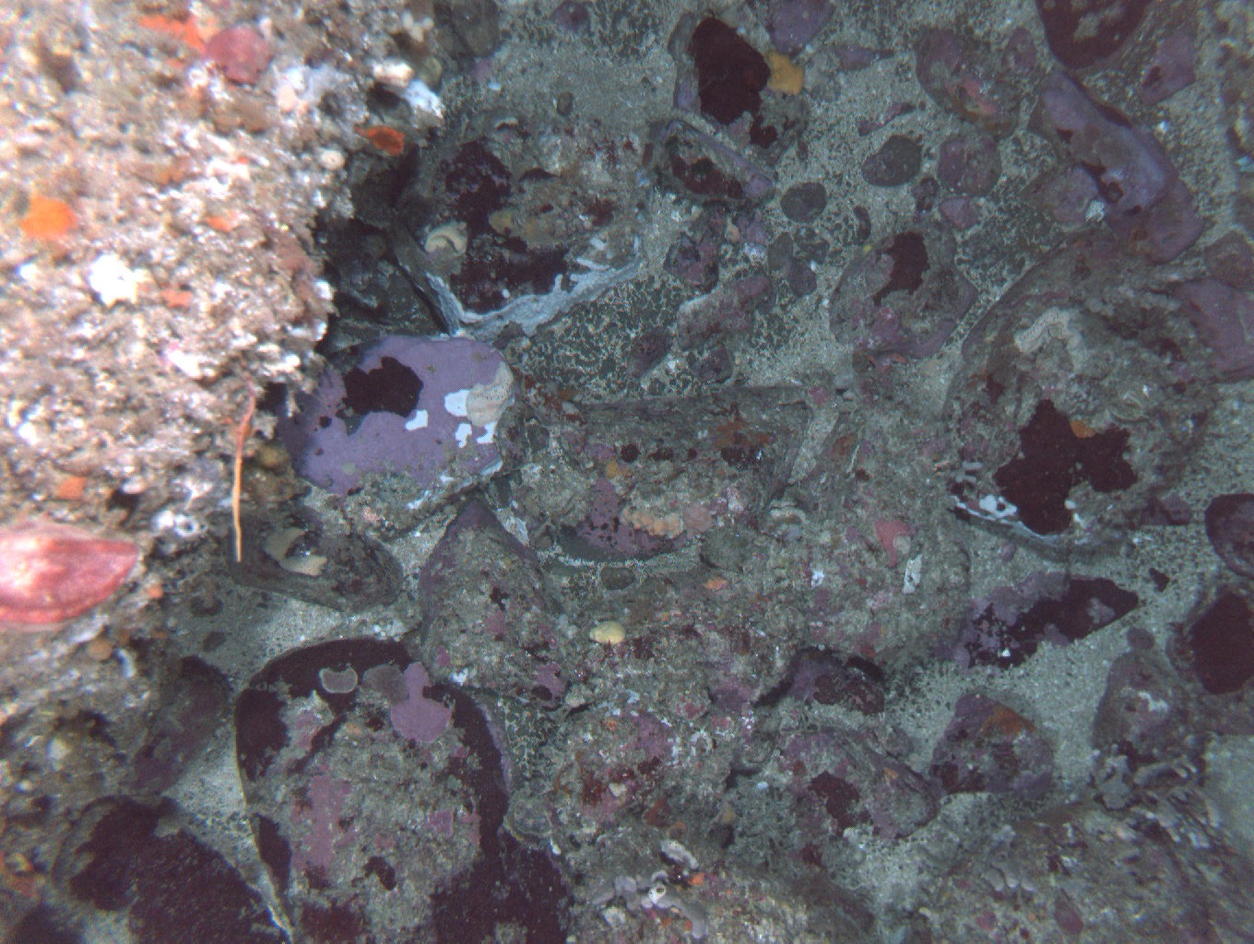Brachionichthyidae: (864, 351, 910, 377)
